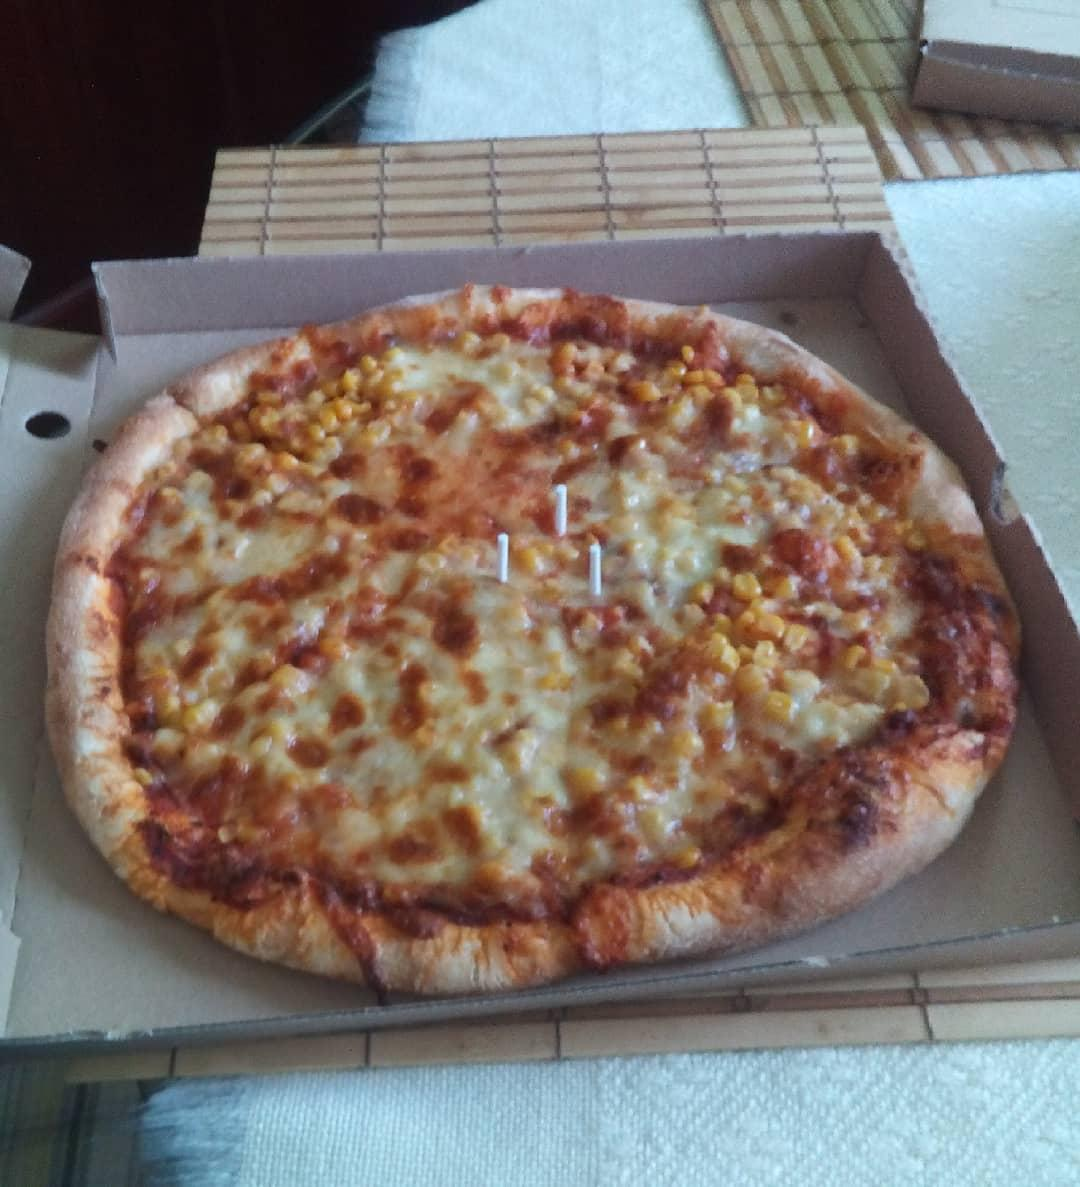Cheese: (406, 597, 547, 861), (587, 457, 829, 575), (173, 492, 328, 582), (391, 346, 541, 420)
Corn: (700, 573, 792, 717), (202, 664, 311, 771), (254, 361, 388, 446), (821, 540, 874, 702), (648, 352, 785, 403), (411, 535, 475, 570), (517, 539, 553, 582), (666, 840, 708, 872), (566, 767, 610, 794), (671, 732, 705, 765), (627, 774, 657, 797), (544, 668, 559, 689)
Pizza: (45, 284, 1019, 977)
